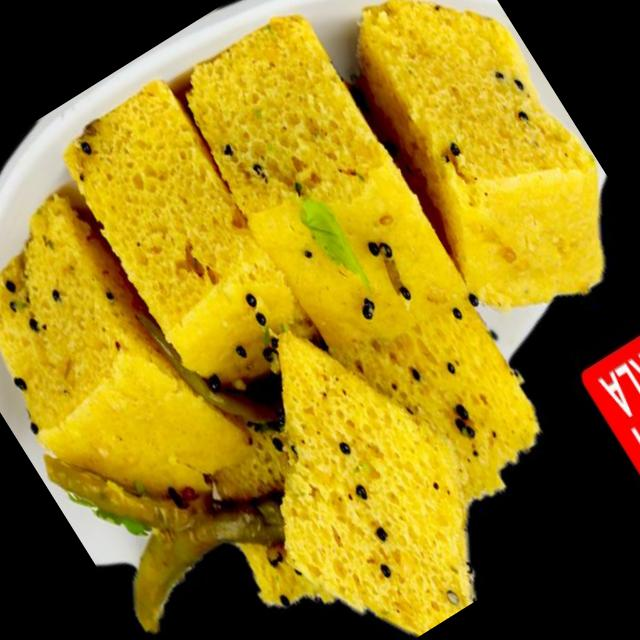dhokla: (0, 9, 616, 640), (324, 0, 640, 337)
